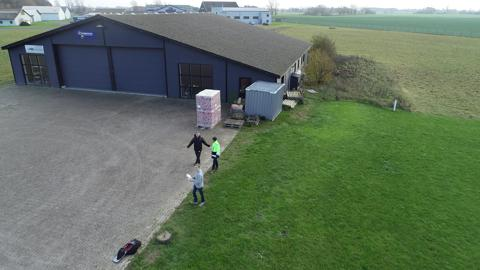RockwoolPallet: (195, 88, 223, 129)
